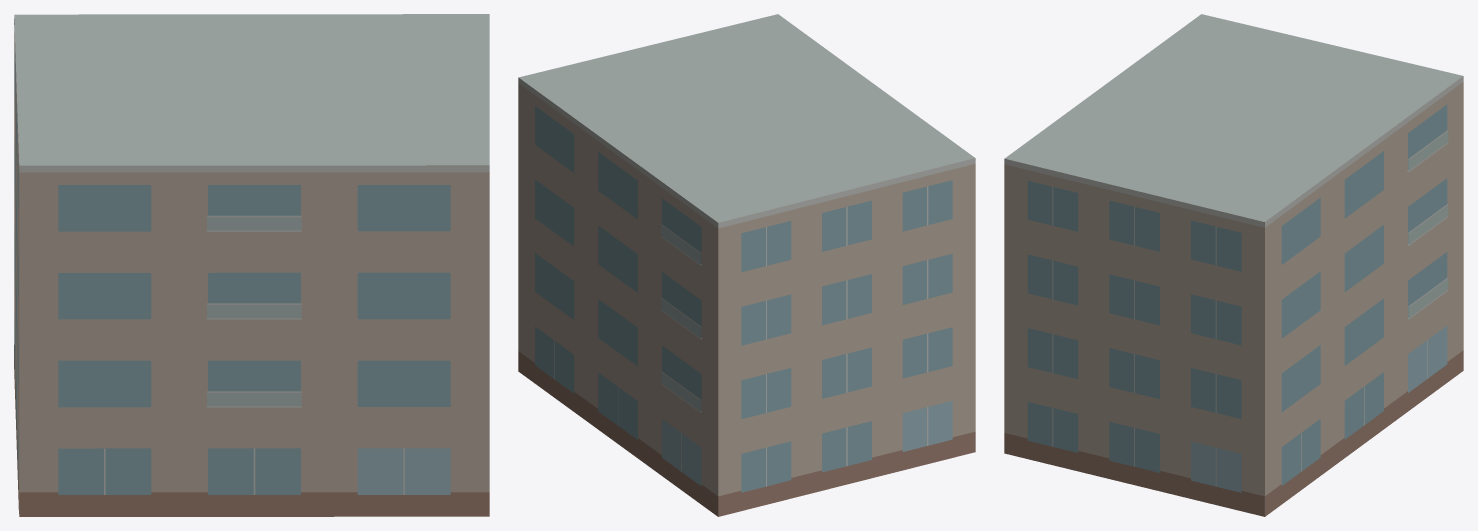
Rendered from survey-upis-32705783.glb.
The picture shows the model from 3 angles, left to right: view 1: azimuth 30°, elevation 25°; view 2: azimuth 150°, elevation 25°; view 3: azimuth 270°, elevation 25°; orthographic projection. The views are drawn at different scales.
Visible parts, largest first — view 1: survey-upis-32705783.tmp; view 2: survey-upis-32705783.tmp; view 3: survey-upis-32705783.tmp.
Part boxes in pixels (x1,y1,x2,y2): survey-upis-32705783.tmp: [14, 14, 489, 516]; survey-upis-32705783.tmp: [518, 14, 975, 516]; survey-upis-32705783.tmp: [1004, 14, 1463, 516].
Size of the model in its own units: 19.24 by 12.7 by 17.94.
